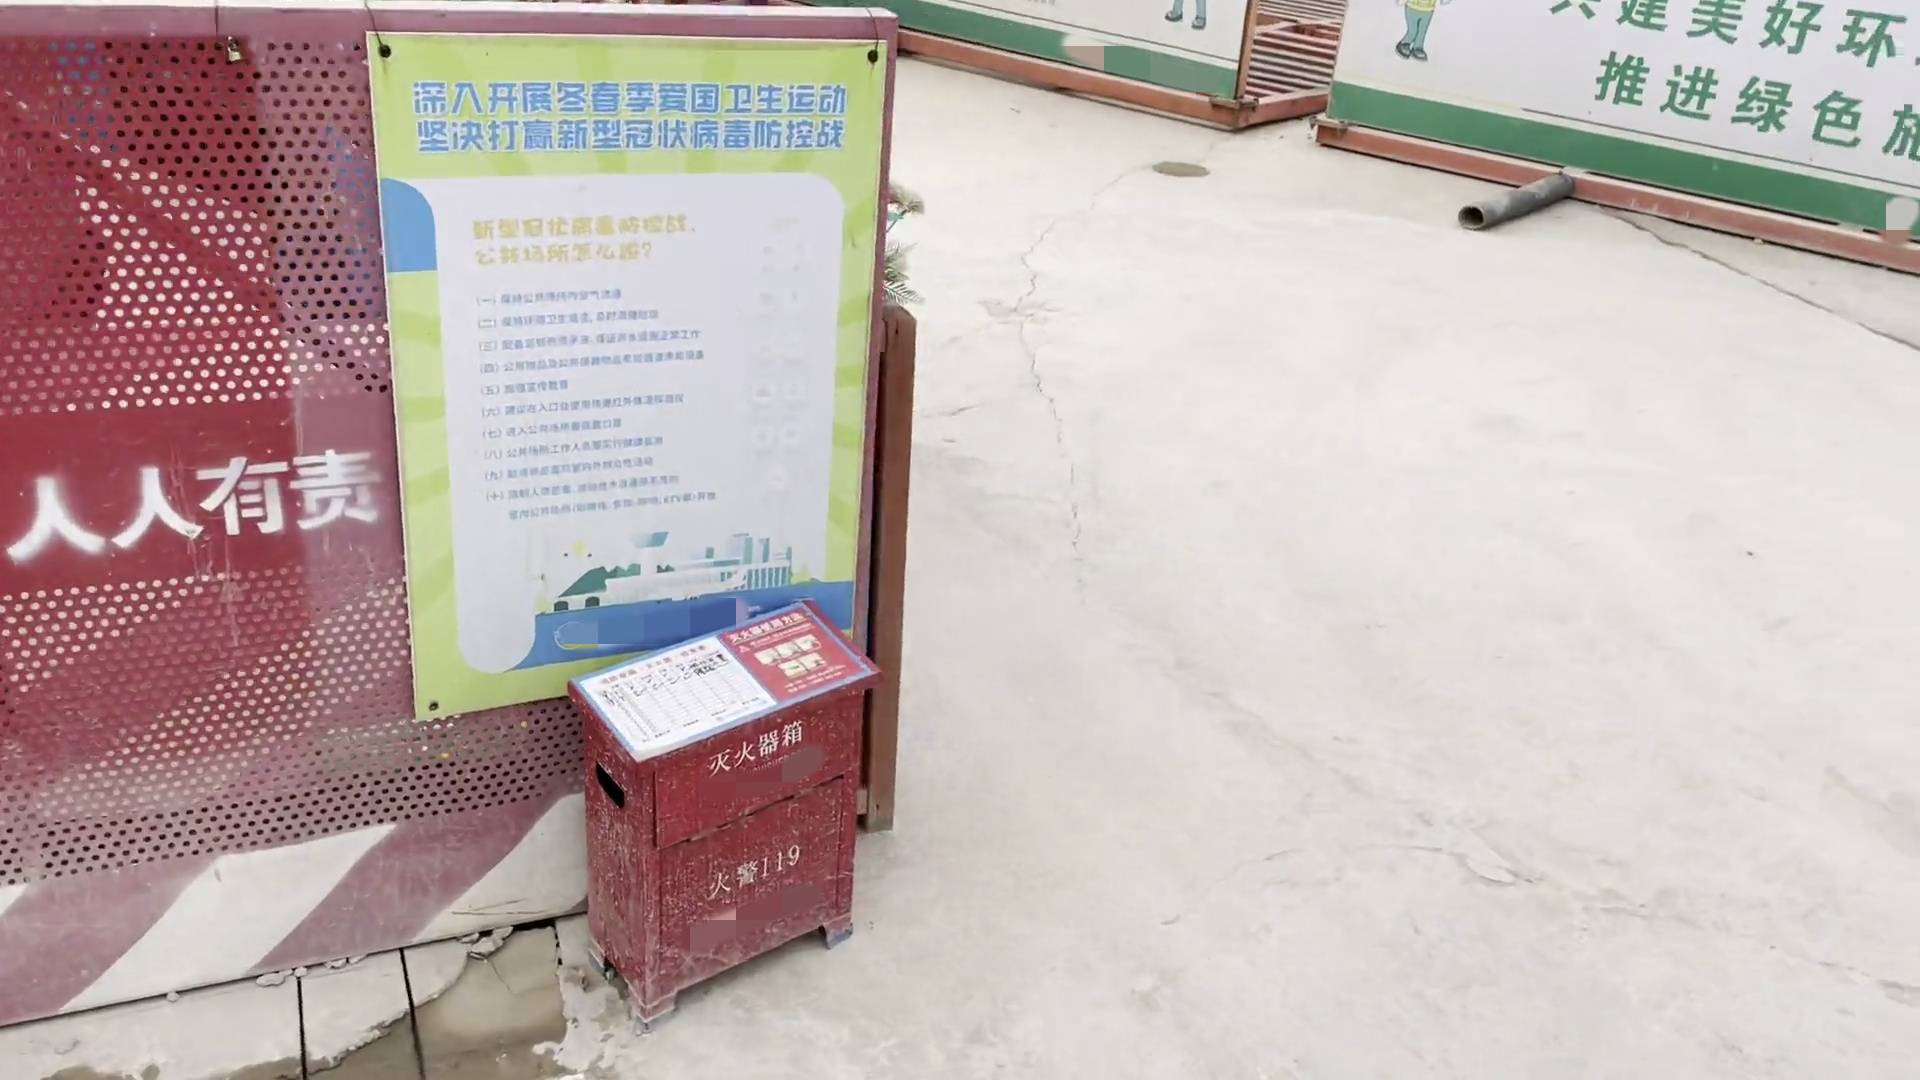fence: (1, 1, 914, 973)
slogan: (382, 59, 894, 684), (1542, 4, 1920, 169), (1, 444, 375, 563)
